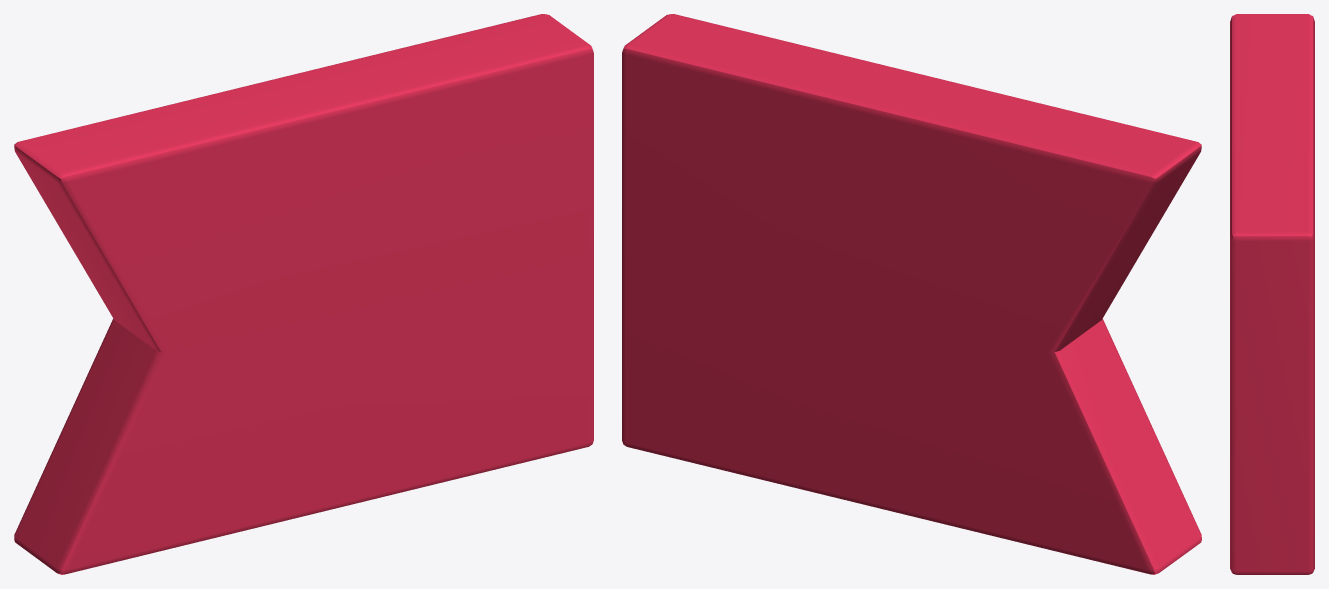
The model's file is label2.fbx.
The picture shows the model from 3 angles, left to right: view 1: azimuth 30°, elevation 25°; view 2: azimuth 150°, elevation 25°; view 3: azimuth 270°, elevation 25°; orthographic projection. The views are drawn at different scales.
Parts seen in each view (by area): view 1: label2; view 2: label2; view 3: label2.
Part boxes in pixels (<box>): label2: <box>14,14,593,574</box>; label2: <box>622,14,1201,574</box>; label2: <box>1230,14,1314,574</box>.
Bounding box in the file's own units: 43.41 × 31.11 × 6.99.
1 material, 1 textured.
